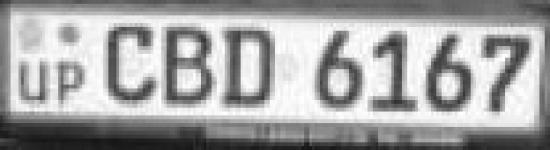1: (366, 27, 420, 120)
6: (307, 24, 364, 113), (424, 28, 476, 122)
7: (478, 25, 538, 120)
B: (162, 13, 218, 115)
C: (103, 19, 164, 113)
D: (220, 23, 279, 118)
P: (56, 56, 90, 111)
U: (17, 53, 53, 111)
